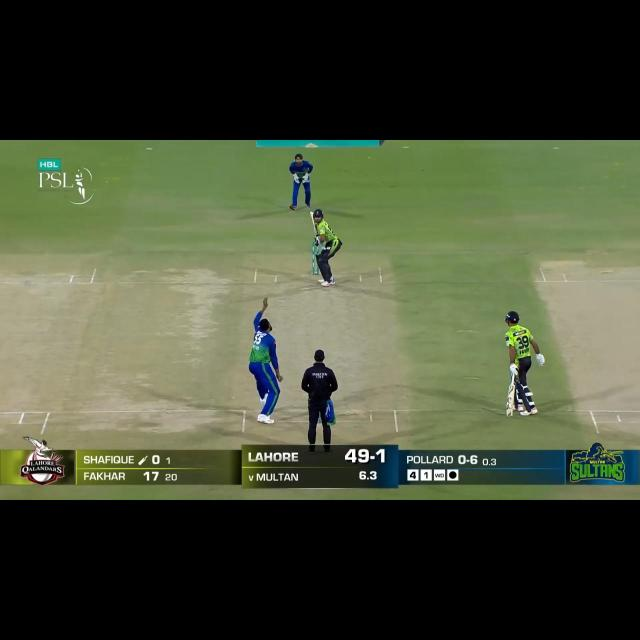bat: (504, 385, 515, 419), (308, 211, 322, 235)
toe: (506, 408, 514, 416), (309, 209, 315, 217)
